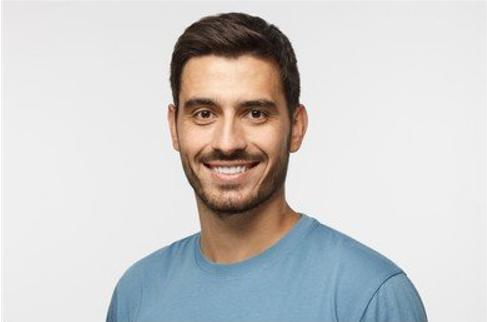Sober: (174, 57, 291, 196)
